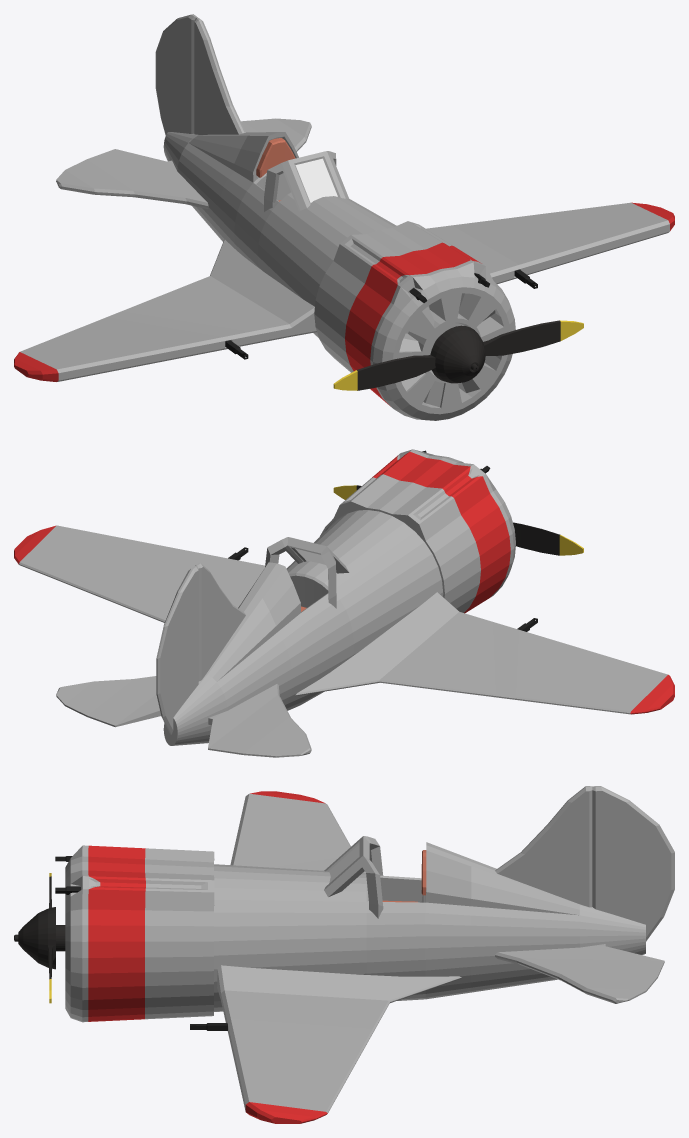
File: Player 1-1.fbx
The picture shows the model from 3 angles, top to bottom: view 1: azimuth 30°, elevation 25°; view 2: azimuth 150°, elevation 25°; view 3: azimuth 270°, elevation 25°; orthographic projection. The views are drawn at different scales.
Parts seen in each view (by area): view 1: Cylinder, Cube.003, Cube.007, Cube.006, Cube.001, Cylinder.001, Cube.008, Cube, Cube.002; view 2: Cylinder, Cube.003, Cube.006, Cube.007, Cube.001, Cube.008, Cube.002, Cube, Cylinder.001; view 3: Cylinder, Cube.003, Cube.001, Cube.007, Cube.002, Cube, Cylinder.001.
Part boxes in pixels (x1=…): Cylinder: x1=163, y1=132, x2=515, y2=420; Cube.003: x1=426, y1=202, x2=674, y2=284; Cube.007: x1=14, y1=311, x2=253, y2=381; Cube.006: x1=123, y1=239, x2=316, y2=344; Cube.001: x1=155, y1=14, x2=245, y2=135; Cylinder.001: x1=333, y1=320, x2=583, y2=390; Cube.008: x1=56, y1=149, x2=208, y2=209; Cube: x1=264, y1=151, x2=349, y2=211; Cube.002: x1=241, y1=118, x2=311, y2=151; Cylinder: x1=163, y1=449, x2=515, y2=745; Cube.003: x1=14, y1=525, x2=264, y2=622; Cube.006: x1=295, y1=592, x2=496, y2=697; Cube.007: x1=493, y1=622, x2=674, y2=714; Cube.001: x1=156, y1=563, x2=245, y2=734; Cube.008: x1=208, y1=684, x2=311, y2=757; Cube.002: x1=56, y1=676, x2=161, y2=727; Cube: x1=265, y1=537, x2=349, y2=608; Cylinder.001: x1=333, y1=485, x2=583, y2=555; Cylinder: x1=65, y1=842, x2=645, y2=1022; Cube.003: x1=217, y1=965, x2=461, y2=1123; Cube.001: x1=495, y1=786, x2=674, y2=941; Cube.007: x1=230, y1=791, x2=350, y2=870; Cube.002: x1=495, y1=944, x2=664, y2=1003; Cube: x1=324, y1=836, x2=383, y2=918; Cylinder.001: x1=14, y1=873, x2=65, y2=1003.
Size of the model in its own units: 916 by 299 by 785.
